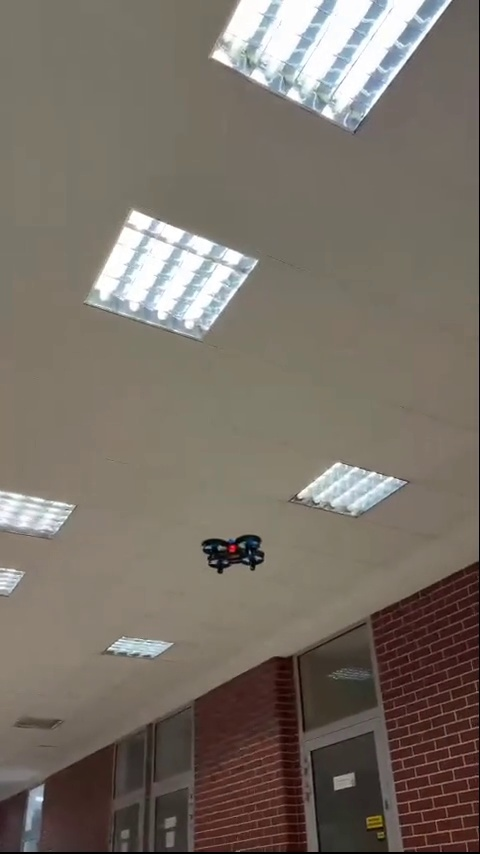drone: (203, 530, 267, 577)
